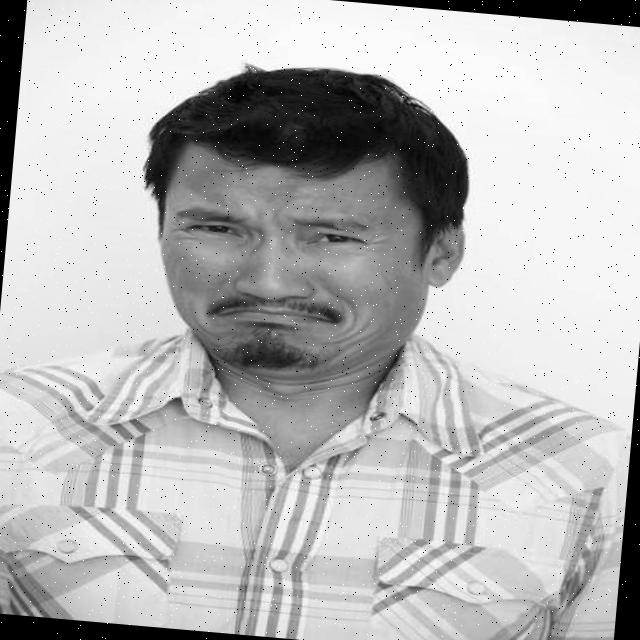Disgust: (148, 150, 434, 392)
